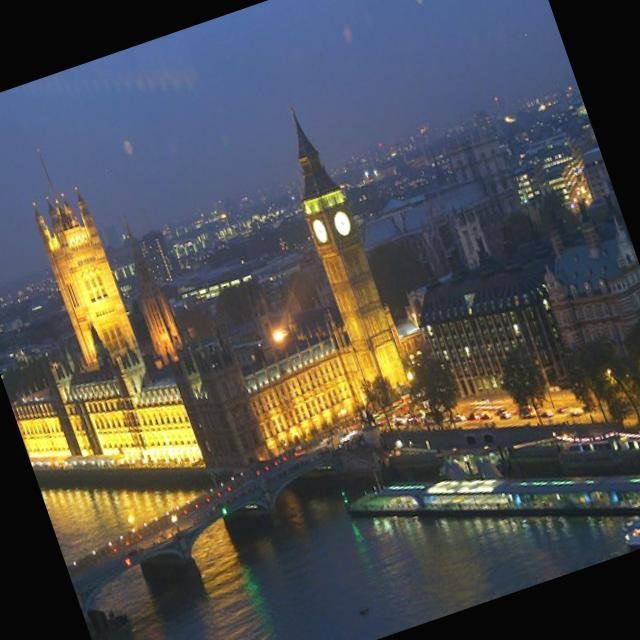Vehicle: (568, 403, 588, 417), (468, 410, 482, 423), (479, 410, 494, 422), (540, 408, 554, 419), (498, 410, 512, 420)
